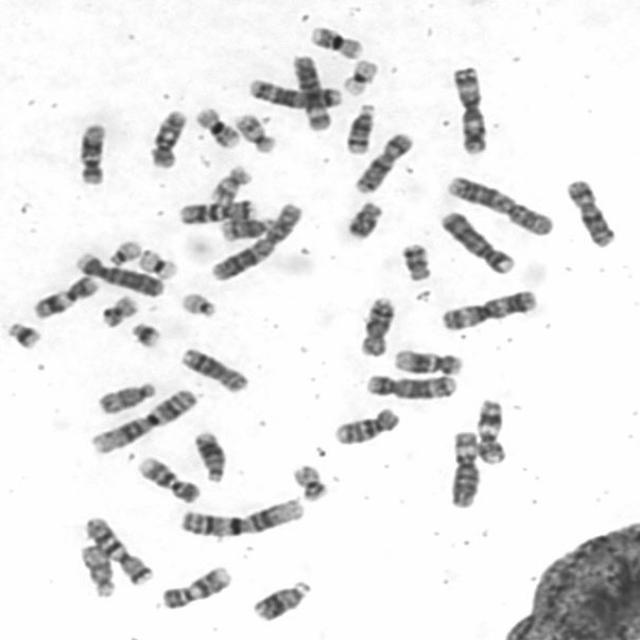A1: (89, 385, 199, 455), (176, 494, 306, 539)
A2: (207, 199, 305, 283), (444, 171, 555, 237)
A3: (437, 285, 539, 332), (448, 61, 490, 156)
B4: (437, 207, 516, 276), (72, 249, 166, 298)
B5: (245, 74, 343, 110), (363, 371, 458, 400)
C10: (329, 404, 401, 447), (145, 105, 189, 170)
C11: (29, 272, 100, 320), (472, 396, 508, 465)
C12: (74, 120, 110, 187), (389, 346, 465, 376)
C6: (288, 52, 332, 132), (445, 427, 482, 510)
C7: (81, 513, 155, 586), (176, 196, 257, 225)
C8: (178, 344, 250, 394), (356, 294, 397, 358)
C9: (158, 562, 235, 611), (134, 452, 202, 504)
D13: (248, 577, 313, 623), (189, 427, 228, 483)
D14: (342, 101, 377, 155), (217, 214, 275, 242)
D15: (93, 378, 157, 415), (76, 541, 117, 598)
E16: (192, 104, 242, 151), (307, 22, 364, 59)
E17: (231, 110, 277, 155), (206, 163, 254, 204)
E18: (341, 198, 384, 240), (396, 239, 434, 282)
F19: (340, 56, 381, 96), (136, 246, 181, 281)
F20: (290, 459, 329, 502), (98, 292, 140, 328)
G21: (4, 319, 45, 350), (126, 319, 164, 349)
G22: (177, 289, 219, 318), (105, 237, 142, 266)
X: (350, 129, 415, 195), (561, 175, 618, 249)
